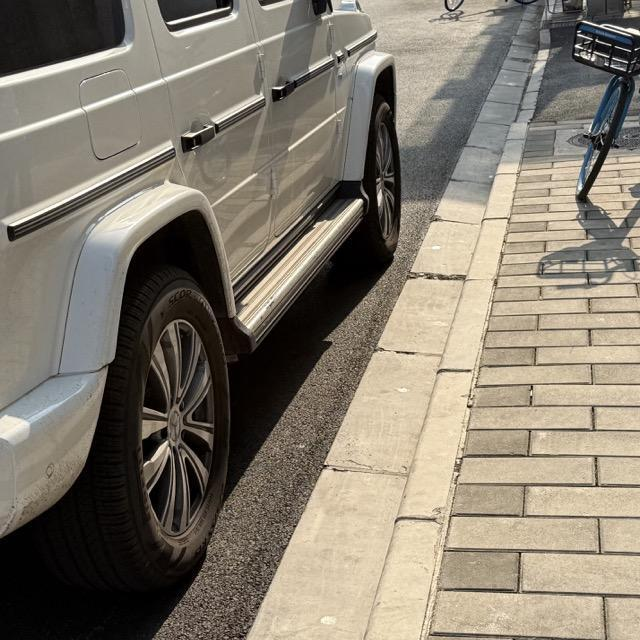curb: (365, 33, 548, 639)
